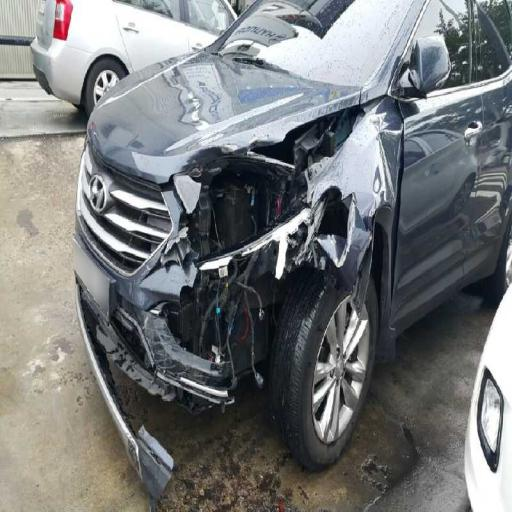broken: (141, 153, 343, 418)
scratch: (303, 107, 408, 224)
